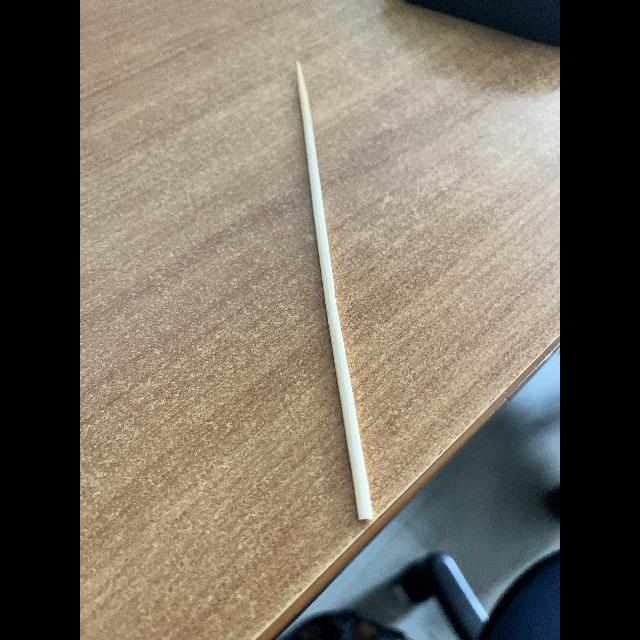stick: (271, 56, 391, 528)
